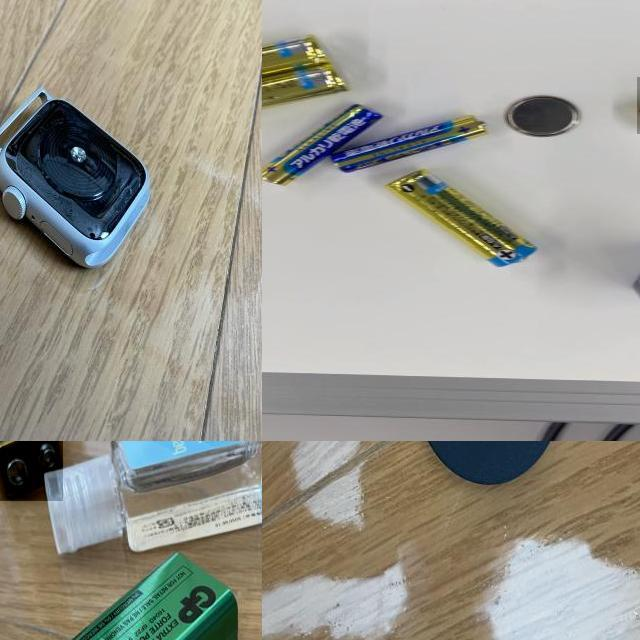9V: (48, 553, 238, 640), (0, 441, 63, 501)
